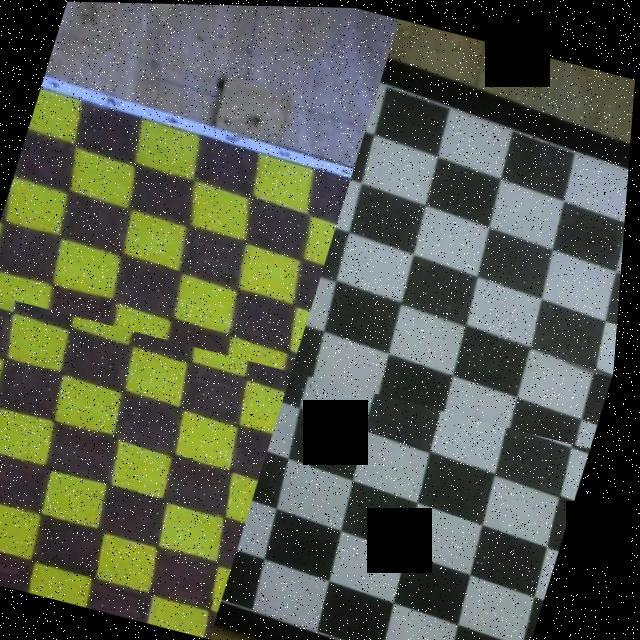chess-table-corners: (347, 174, 352, 181)
